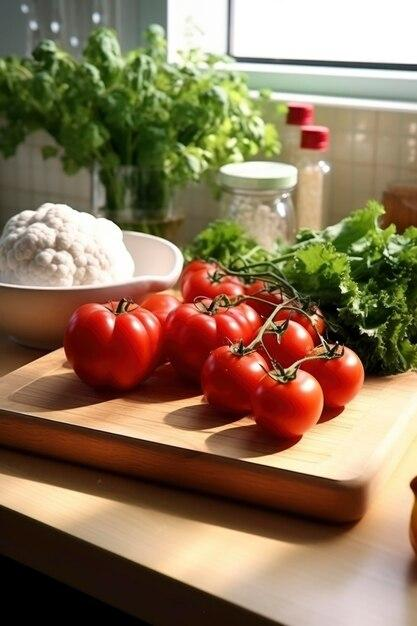cauliflower: (0, 196, 143, 294)
tomato: (83, 257, 402, 465)
